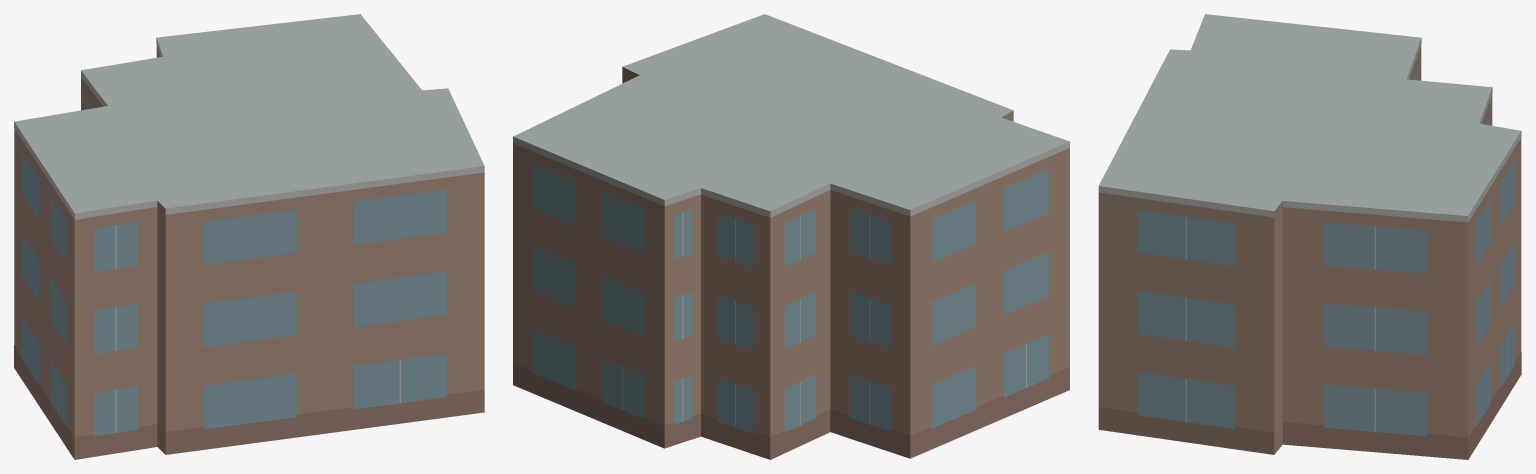
The model's file is survey-upis-32711012.glb.
3 renders of one model, left to right at view 1: azimuth 30°, elevation 25°; view 2: azimuth 150°, elevation 25°; view 3: azimuth 270°, elevation 25°, orthographic.
Parts seen in each view (by area): view 1: survey-upis-32711012.tmp; view 2: survey-upis-32711012.tmp; view 3: survey-upis-32711012.tmp.
Boxes of the visible parts, box(x1,y1,x2,y2) form: survey-upis-32711012.tmp: box(14, 14, 484, 459); survey-upis-32711012.tmp: box(513, 14, 1069, 459); survey-upis-32711012.tmp: box(1098, 14, 1521, 459).
Size of the model in its own units: 16.91 by 9.5 by 14.95.
